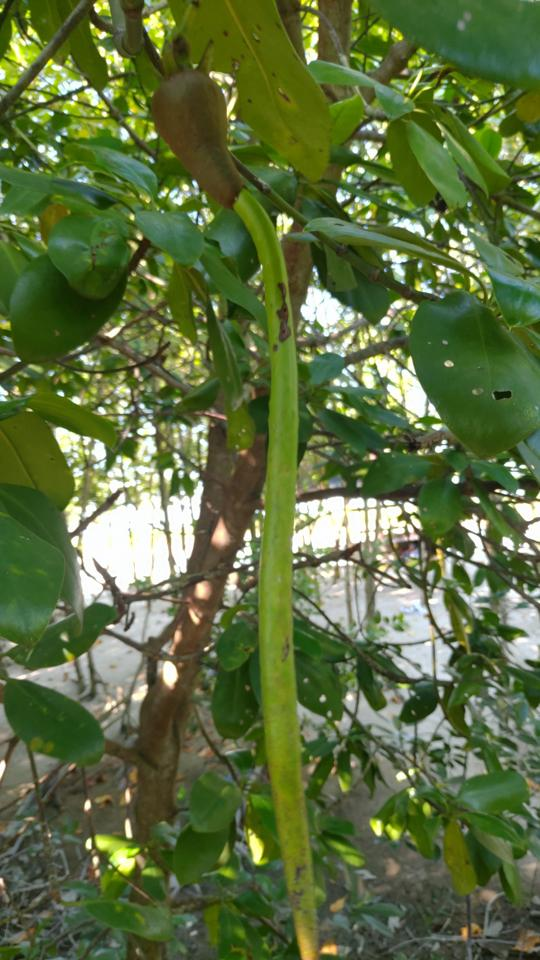mentah: (127, 37, 353, 956)
